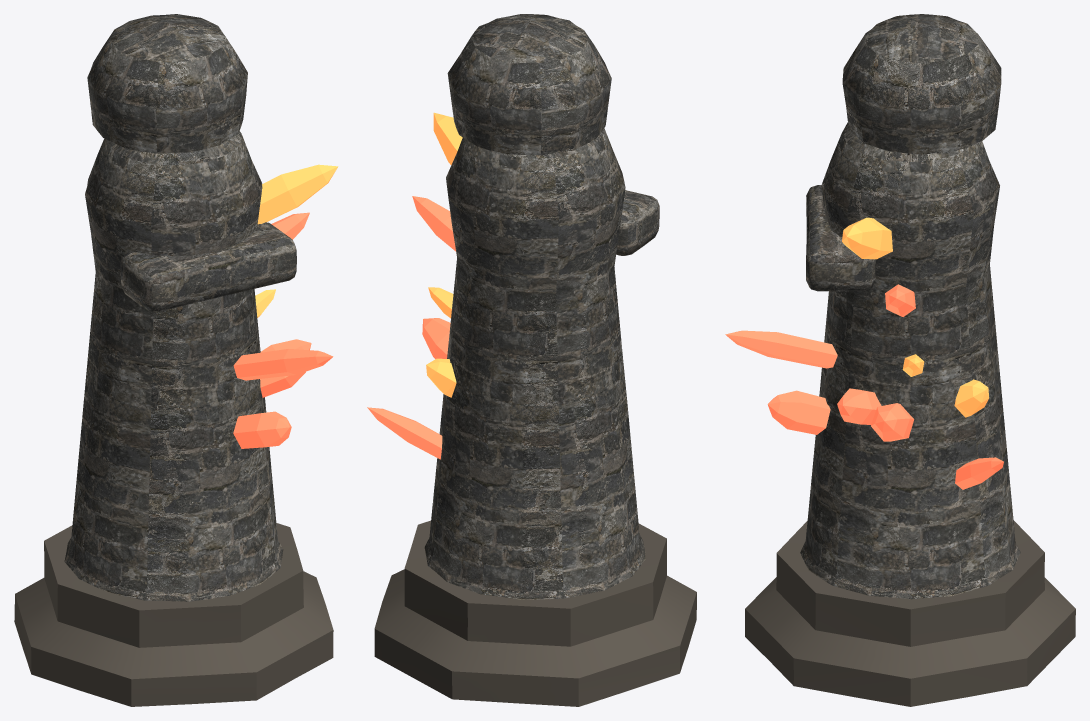
Rendered from ember-transformed-statue-v01.glb.
3 views of the same model, side by side, from view 1: azimuth 30°, elevation 25°; view 2: azimuth 150°, elevation 25°; view 3: azimuth 270°, elevation 25° (orthographic).
Parts seen in each view (by area): view 1: ember-transformed-statue; view 2: ember-transformed-statue; view 3: ember-transformed-statue.
Part boxes in pixels (x1,y1,x2,y2): ember-transformed-statue: (14, 14, 338, 706); ember-transformed-statue: (367, 14, 696, 706); ember-transformed-statue: (725, 14, 1075, 706).
Size of the model in its own units: 1.6 by 3.28 by 1.7.
Materials: 3 (1 with a texture image).
